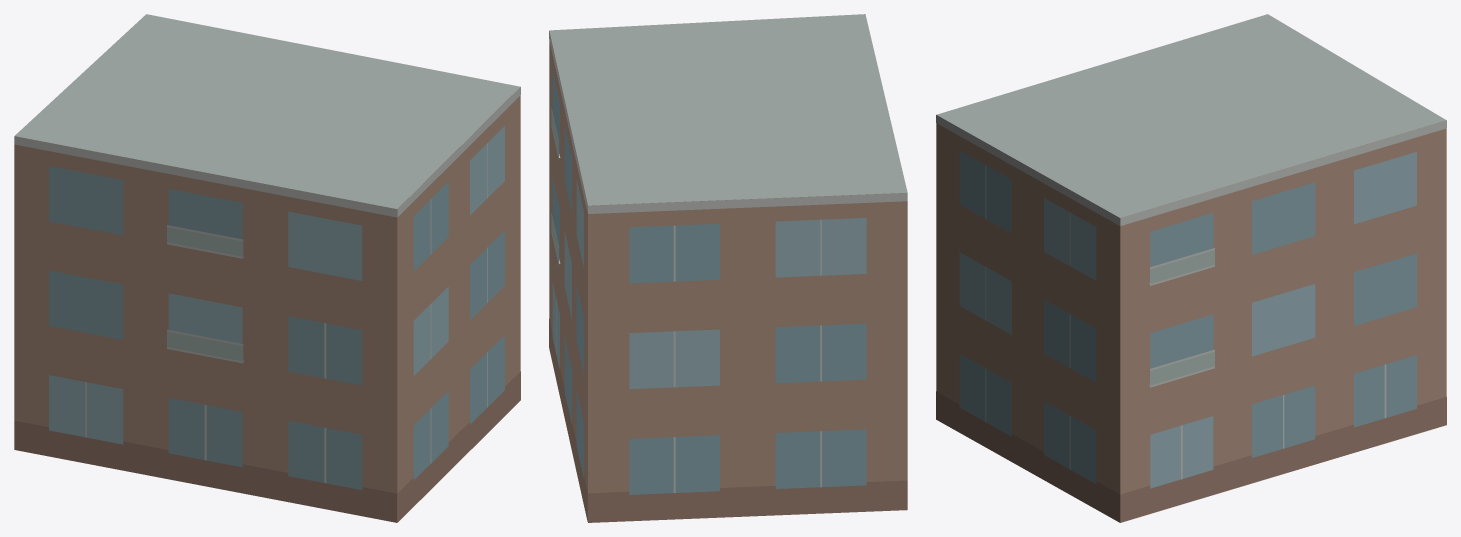
File: survey-upis-32914172.glb
The picture shows the model from 3 angles, left to right: view 1: azimuth 30°, elevation 25°; view 2: azimuth 150°, elevation 25°; view 3: azimuth 270°, elevation 25°; orthographic projection. The views are drawn at different scales.
Parts seen in each view (by area): view 1: survey-upis-32914172.tmp; view 2: survey-upis-32914172.tmp; view 3: survey-upis-32914172.tmp.
Part boxes in pixels (bbox=[...]): survey-upis-32914172.tmp: bbox=[14, 14, 520, 522]; survey-upis-32914172.tmp: bbox=[549, 14, 907, 522]; survey-upis-32914172.tmp: bbox=[936, 14, 1446, 522].
Bounding box in the file's own units: 13.15 × 9.15 × 13.9.
